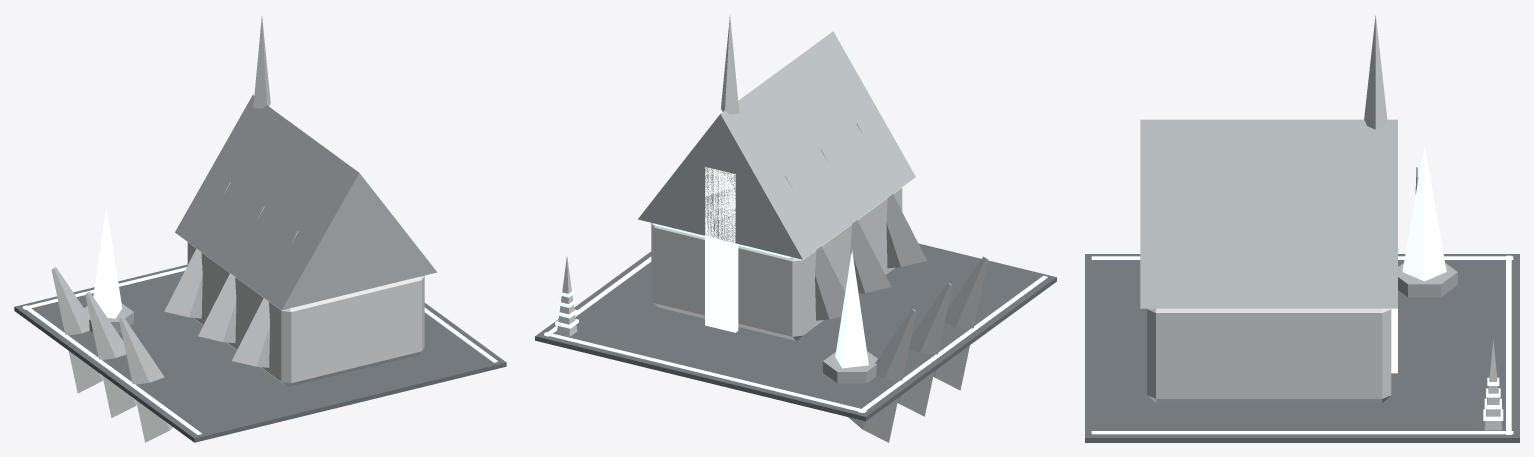
Rendered from zone_low_5_t4.glb.
The picture shows the model from 3 angles, left to right: view 1: azimuth 30°, elevation 25°; view 2: azimuth 150°, elevation 25°; view 3: azimuth 270°, elevation 25°; orthographic projection. The views are drawn at different scales.
Parts seen in each view (by area): view 1: zone_low_5_t4, detail; view 2: zone_low_5_t4, detail; view 3: zone_low_5_t4, detail.
Part boxes in pixels (x1,y1,x2,y2): zone_low_5_t4: (14, 16, 506, 442); detail: (22, 267, 497, 434); zone_low_5_t4: (535, 15, 1056, 442); detail: (544, 223, 1047, 413); zone_low_5_t4: (1085, 15, 1519, 442); detail: (1091, 255, 1513, 434).
Bounding box in the file's own units: 19.94 × 21.09 × 19.6.
